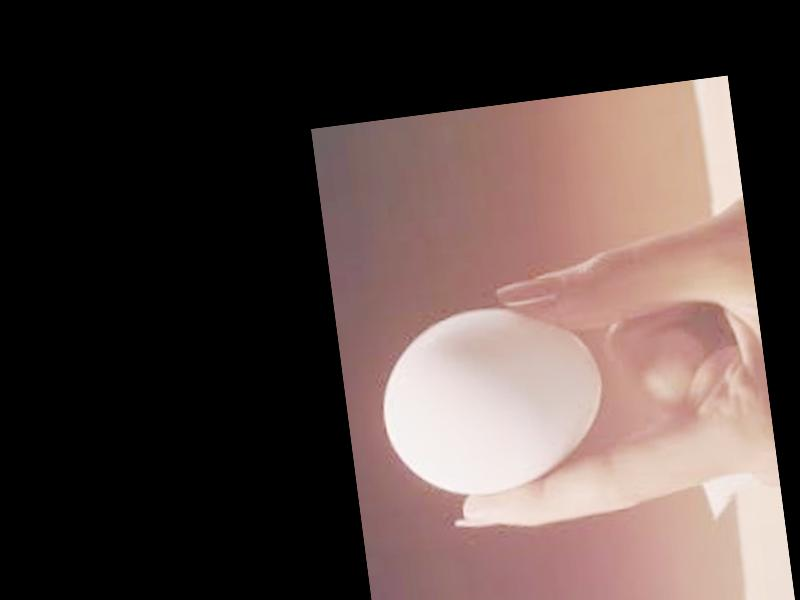Eggs: (373, 292, 616, 505)
